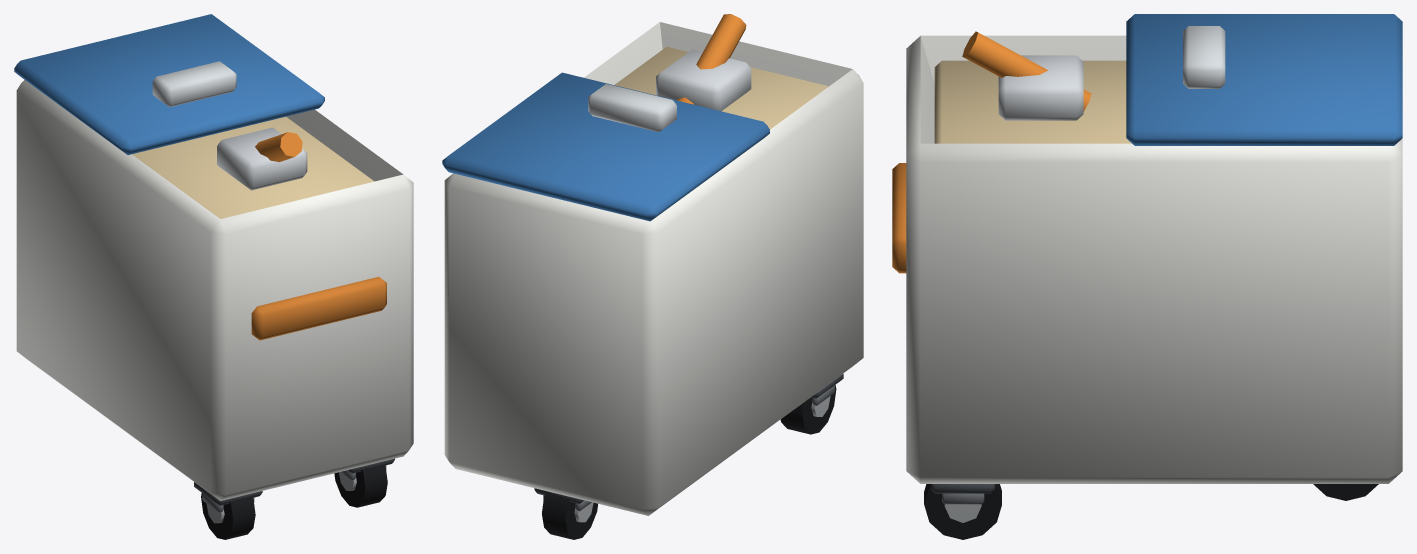
The model's file is SM_IngredientBin_01.glb.
3 views of the same model, side by side, from view 1: azimuth 30°, elevation 25°; view 2: azimuth 150°, elevation 25°; view 3: azimuth 270°, elevation 25° (orthographic). The views are drawn at different scales.
Visible parts, largest first — view 1: SM_IngredientBin_01; view 2: SM_IngredientBin_01; view 3: SM_IngredientBin_01.
Boxes of the visible parts, x1=… form: SM_IngredientBin_01: x1=14, y1=14, x2=413, y2=539; SM_IngredientBin_01: x1=442, y1=14, x2=863, y2=539; SM_IngredientBin_01: x1=892, y1=14, x2=1402, y2=539.
Size of the model in its own units: 0.4 by 0.7189 by 0.72.
Materials: 1 (1 with a texture image).
